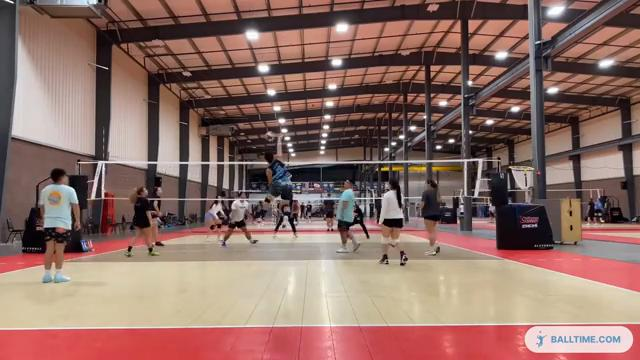attacco: (254, 130, 294, 226)
